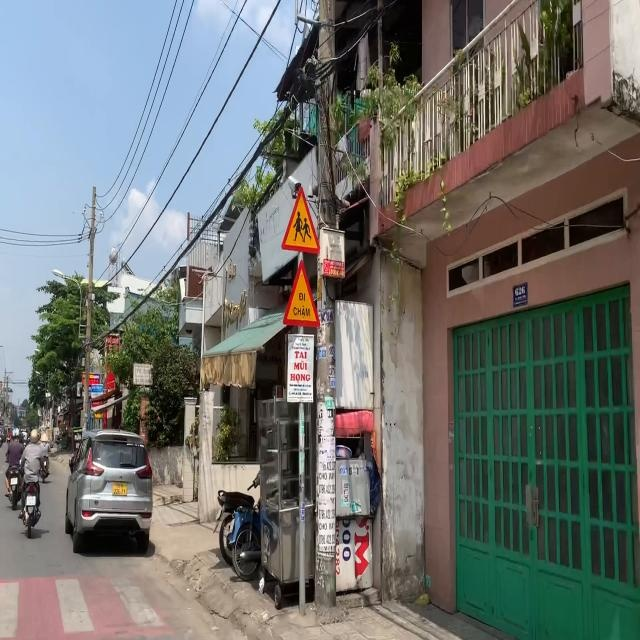bien_nguy_hiem: (280, 183, 322, 257), (282, 253, 323, 328)
